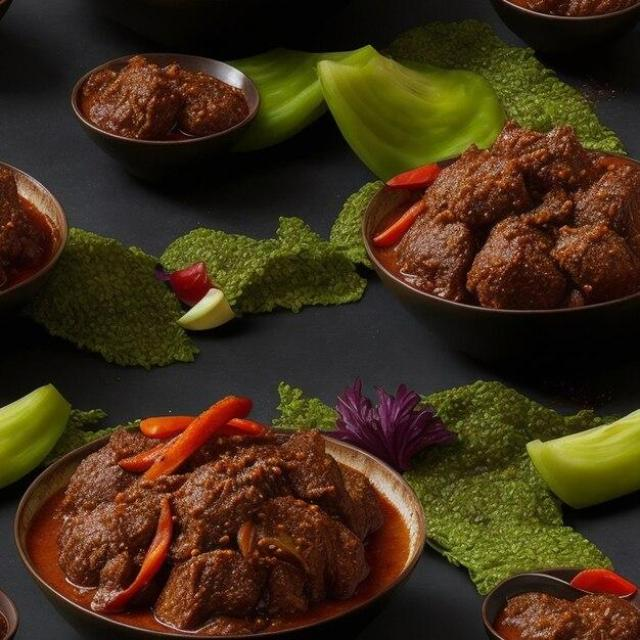Rendang: (75, 408, 381, 602), (398, 130, 640, 298)
